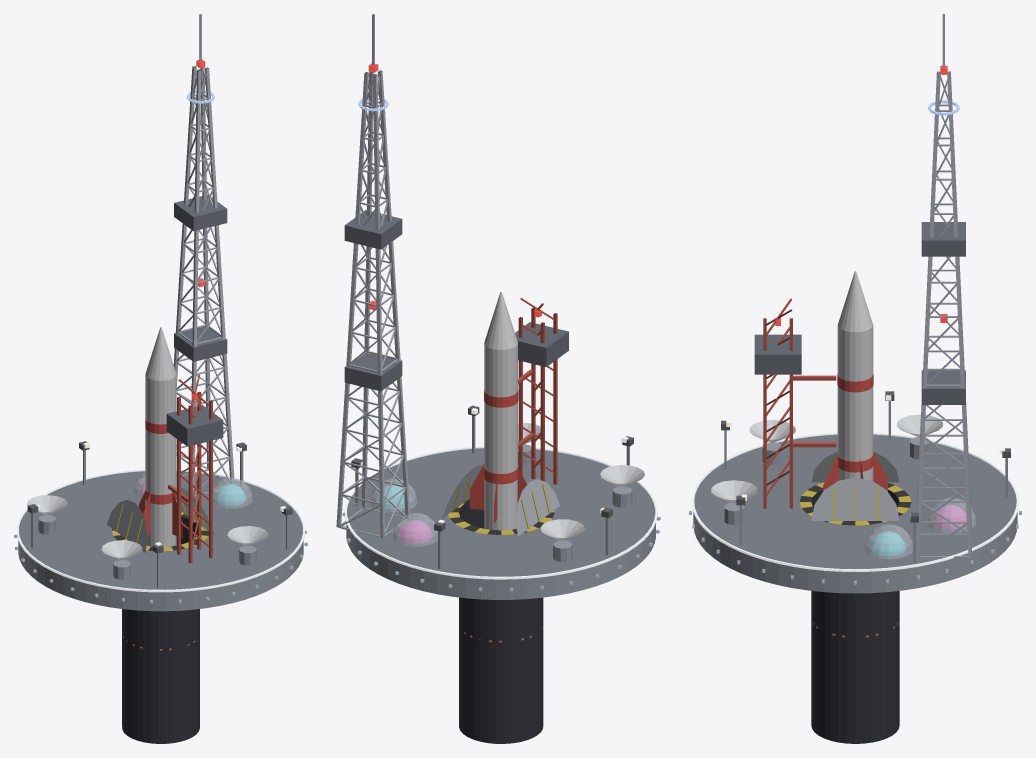
The model's file is orbital_landmark.glb.
3 renders of one model, left to right at view 1: azimuth 30°, elevation 25°; view 2: azimuth 150°, elevation 25°; view 3: azimuth 270°, elevation 25°, orthographic. The views are drawn at different scales.
Visible parts, largest first — view 1: landmark_orbital; view 2: landmark_orbital; view 3: landmark_orbital.
Part boxes in pixels (x1,y1,x2,y2): landmark_orbital: [14, 14, 307, 743]; landmark_orbital: [336, 14, 660, 743]; landmark_orbital: [689, 14, 1021, 743].
Bounding box in the file's own units: 45.2 × 113 × 45.2.
